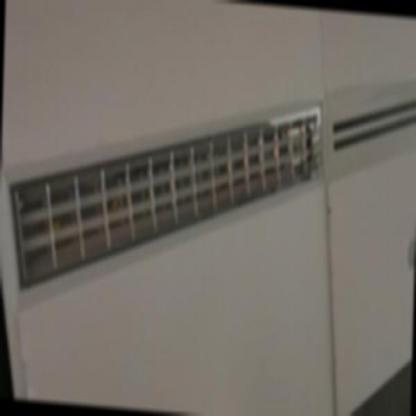light_off: (4, 67, 331, 322)
